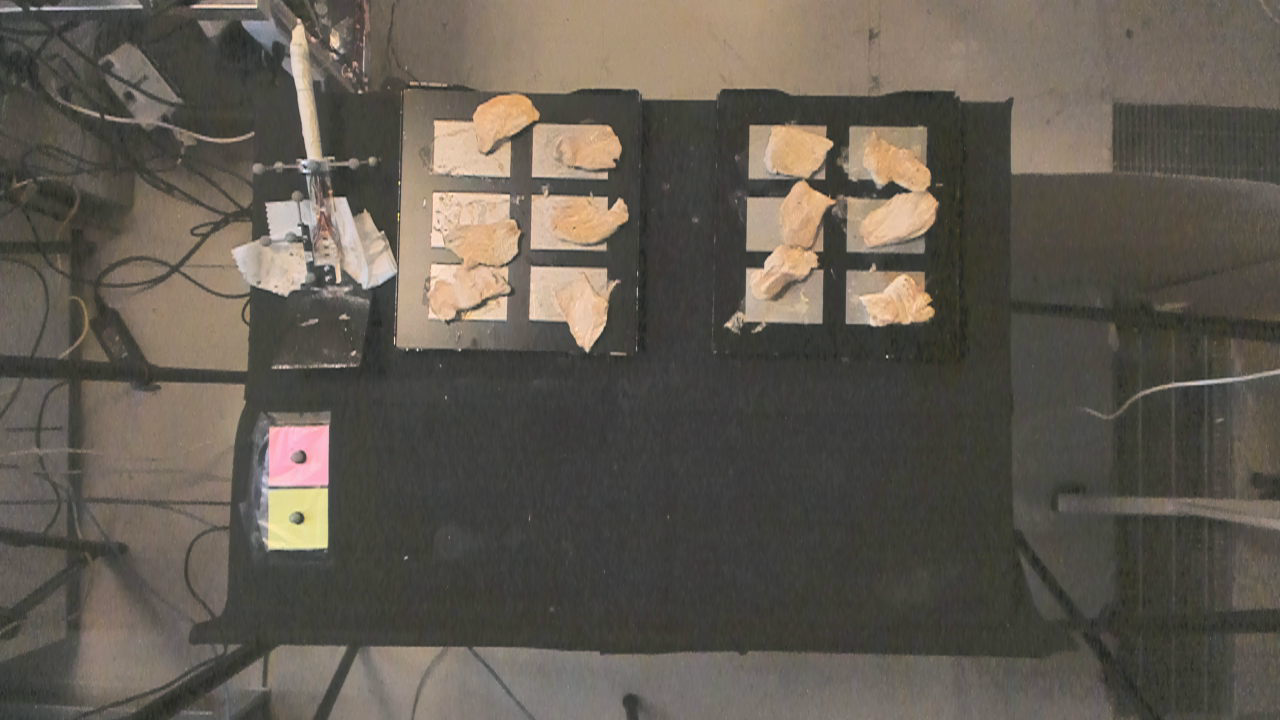chicken: (858, 124, 948, 189), (427, 261, 516, 326), (854, 265, 936, 332), (553, 273, 614, 359), (466, 90, 542, 154), (861, 191, 942, 251), (744, 242, 825, 302), (548, 194, 636, 247), (764, 116, 833, 180), (776, 180, 838, 250), (441, 222, 529, 267), (549, 123, 625, 171)
marker: (268, 426, 331, 485)
